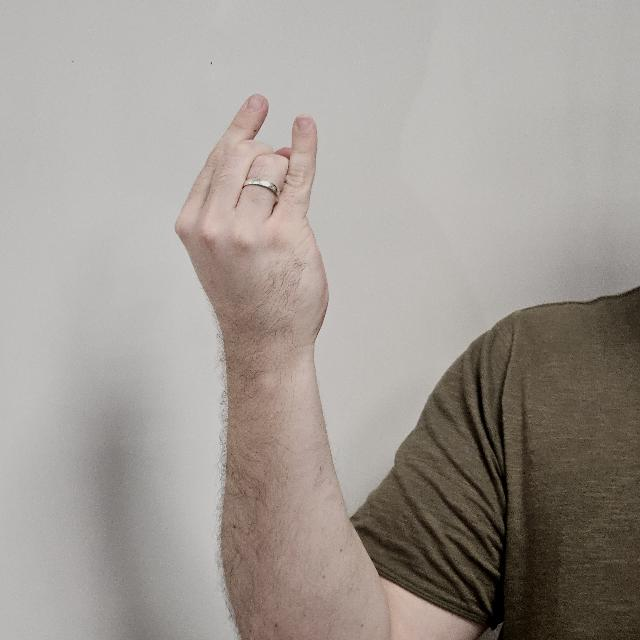L: (172, 81, 338, 356)
